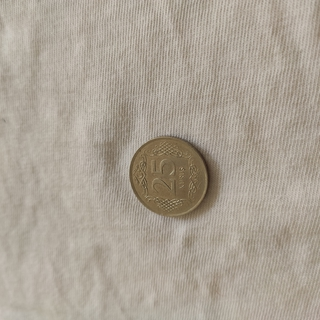25KURUS: (128, 135, 211, 218)
